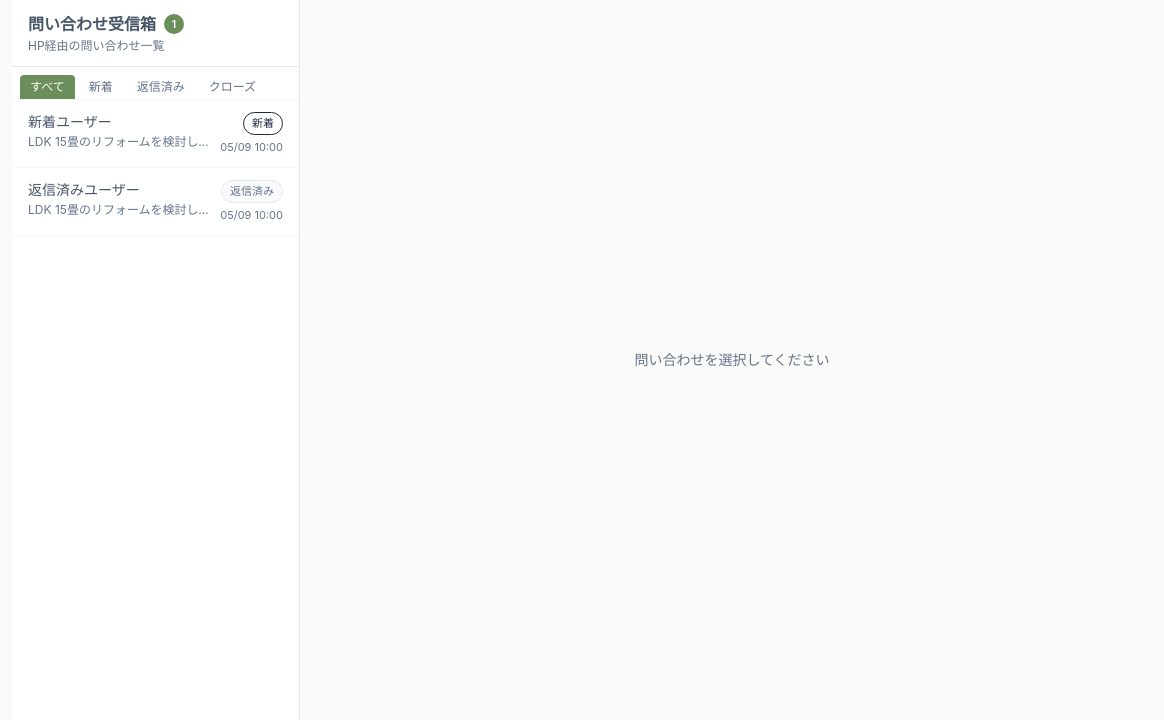
Test: InquiryInboxPage — フィルタ › 「新着」タブでステータスが new の件だけ表示する
Expected: the text "新着ユーザー" is shown, [28,113,112,130]
Click the button "新着".
click(101, 87)  # box [79,75,123,99]
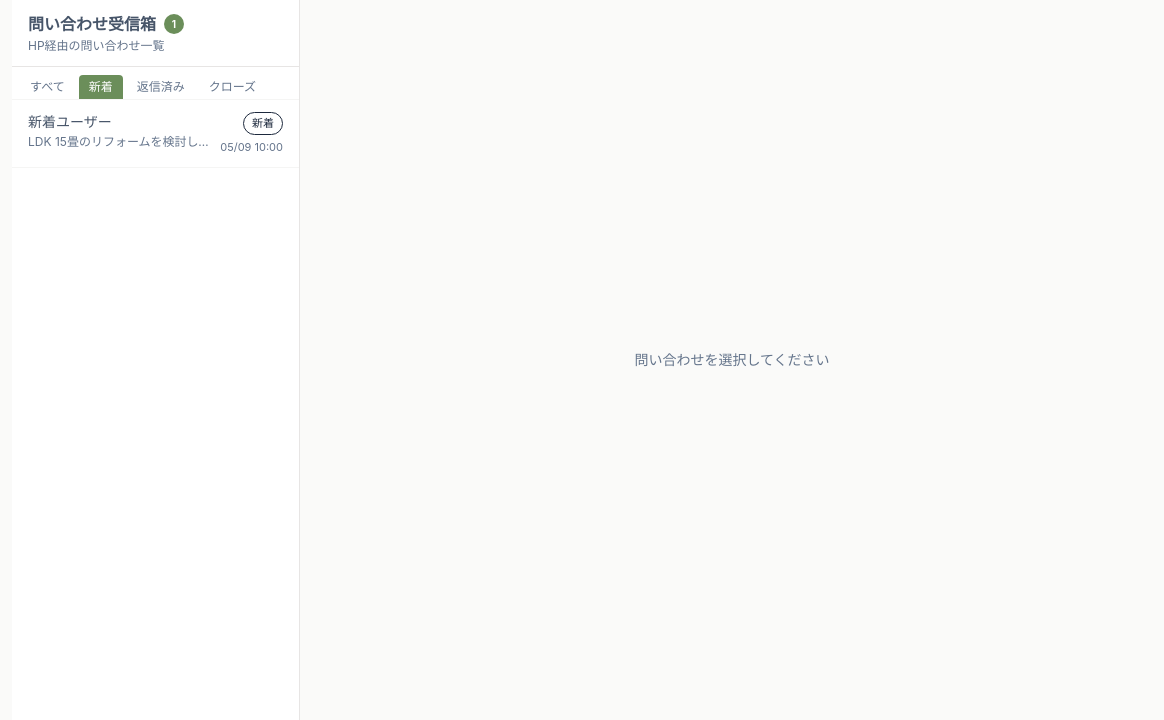
Expected: the text "新着ユーザー" is shown, [28,113,112,130]
Result: the button "返信済みユーザー" is gone
